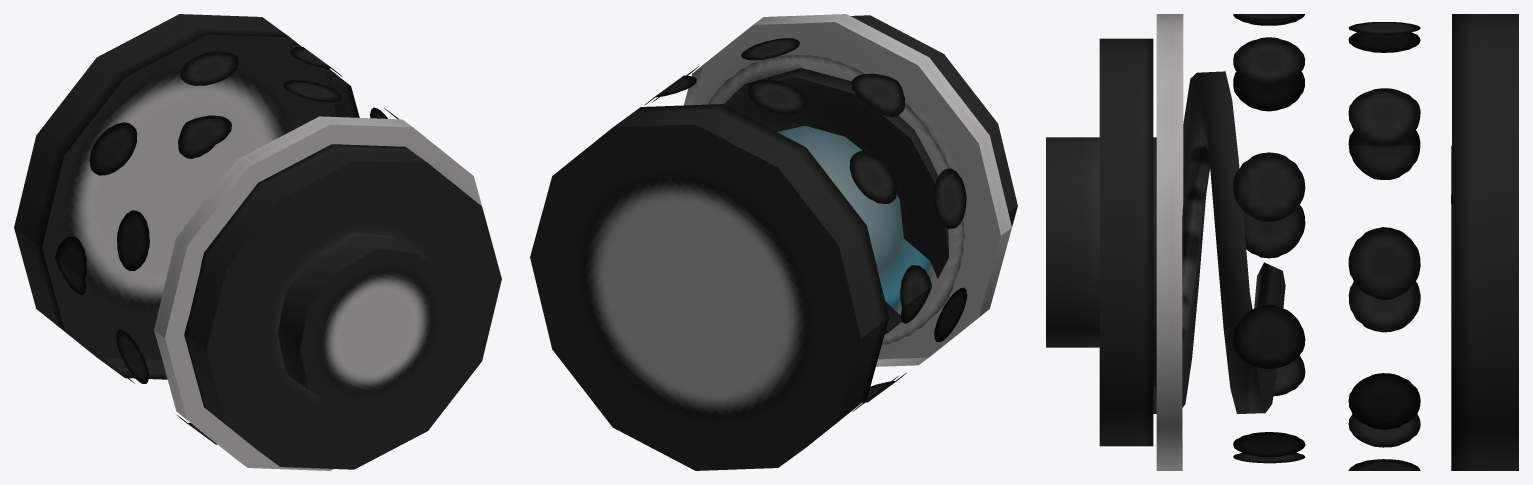
File: obj_interactive_suspensionsport_04_on.fbx
3 renders of one model, left to right at view 1: azimuth 30°, elevation 25°; view 2: azimuth 150°, elevation 25°; view 3: azimuth 270°, elevation 25°, orthographic. The views are drawn at different scales.
Parts seen in each view (by area): view 1: obj_interactive_suspensionsport_04_on; view 2: obj_interactive_suspensionsport_04_on; view 3: obj_interactive_suspensionsport_04_on.
Boxes of the visible parts, left/top/right/bottom form: obj_interactive_suspensionsport_04_on: left=14, top=14, right=501, bottom=470; obj_interactive_suspensionsport_04_on: left=530, top=14, right=1017, bottom=470; obj_interactive_suspensionsport_04_on: left=1046, top=14, right=1518, bottom=470.
Bounding box in the file's own units: 1.09 × 1.09 × 1.13.
